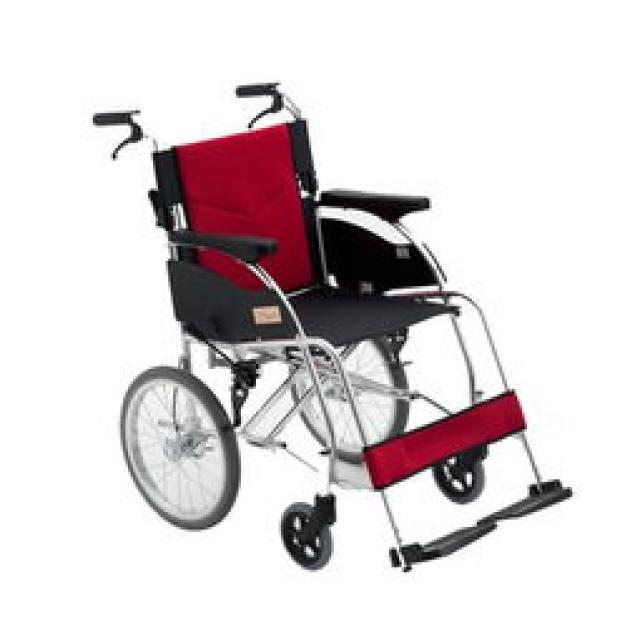wheelchair: (80, 72, 585, 588)
